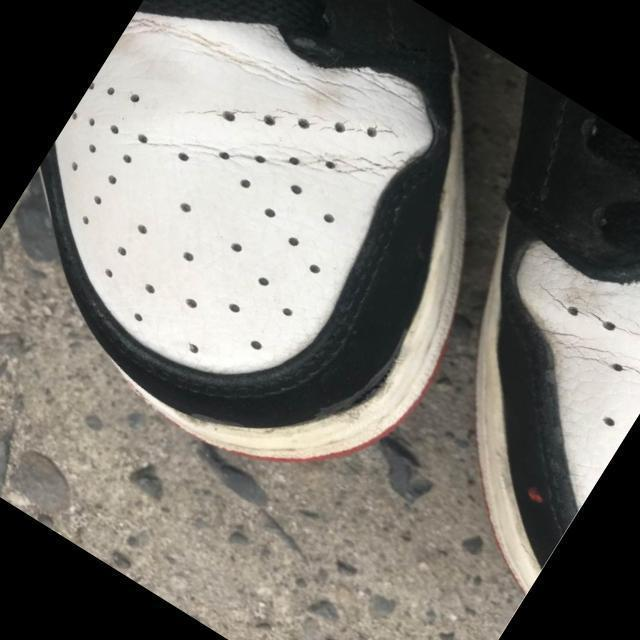nike original jordan 1: (0, 0, 596, 530)
